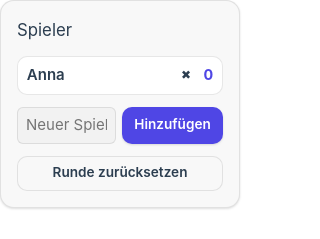
Test: PlayerPanel › renames a player via click and Enter
Step 1. Click the text "Anna" → click(46, 75), box x1=27 y1=65 x2=65 y2=84
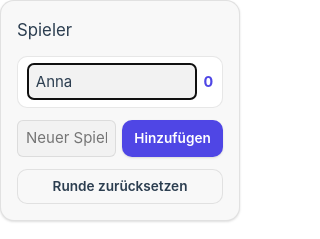
Expected: the 1st field with class "name-input" is shown
Step 2. Replace the text in the 1st field with class "name-input" with "Alice" → (112, 82), box x1=27 y1=63 x2=197 y2=100
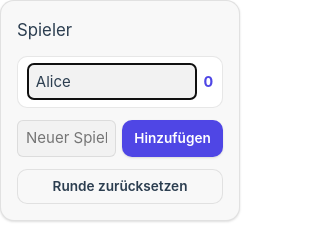
Step 3. Press Enter in the 1st field with class "name-input", box x1=27 y1=63 x2=197 y2=100
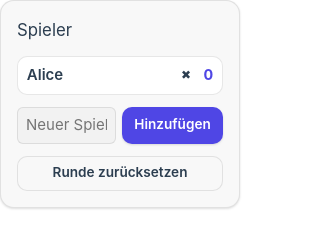
Expected: the text "Alice" is shown, x1=27 y1=65 x2=63 y2=84
